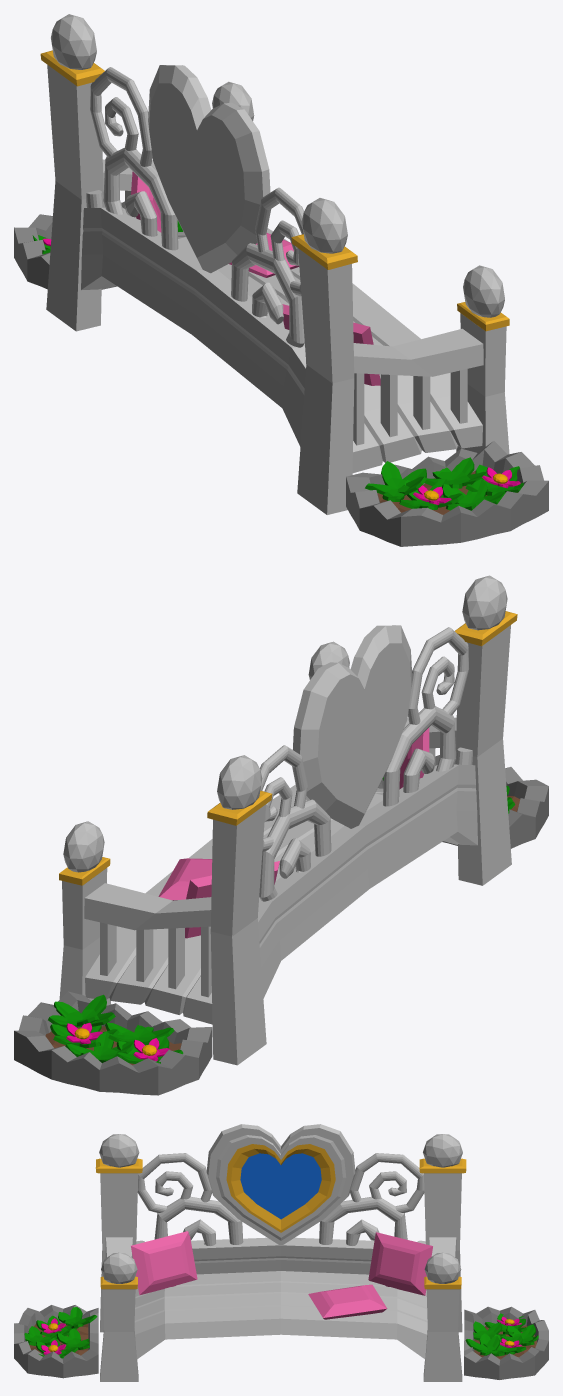
File: BenchF.fbx
The picture shows the model from 3 angles, top to bottom: view 1: azimuth 30°, elevation 25°; view 2: azimuth 150°, elevation 25°; view 3: azimuth 270°, elevation 25°; orthographic projection. The views are drawn at different scales.
Parts seen in each view (by area): view 1: Bench; view 2: Bench; view 3: Bench.
Boxes of the visible parts, bbox=[...] form: Bench: bbox=[14, 14, 548, 546]; Bench: bbox=[14, 575, 548, 1095]; Bench: bbox=[14, 1124, 548, 1381].
Size of the model in its own units: 5.88 by 9.38 by 22.04.
